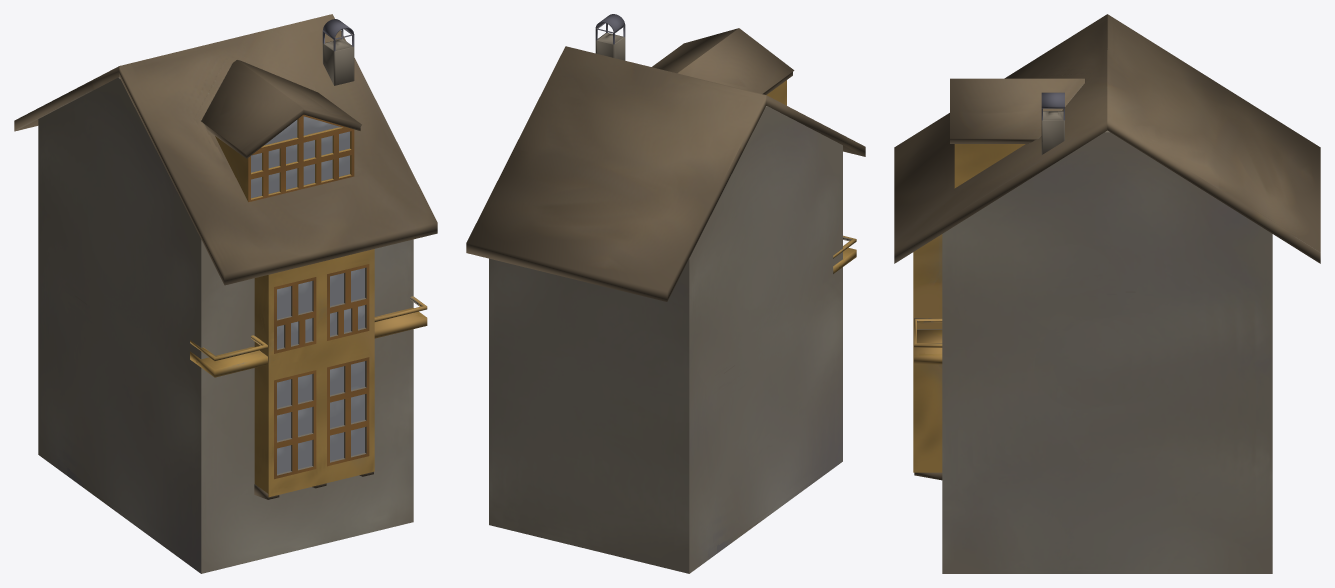
The model's file is SkiHotels (1).fbx.
3 renders of one model, left to right at view 1: azimuth 30°, elevation 25°; view 2: azimuth 150°, elevation 25°; view 3: azimuth 270°, elevation 25°, orthographic. The views are drawn at different scales.
Parts seen in each view (by area): view 1: SkiResort.001; view 2: SkiResort.001; view 3: SkiResort.001.
Boxes of the visible parts, x1,y1,x2,y2 form: SkiResort.001: [14, 14, 437, 573]; SkiResort.001: [466, 14, 865, 573]; SkiResort.001: [894, 14, 1320, 573].
Size of the model in its own units: 688 by 403 by 837.
1 material, 1 textured.
